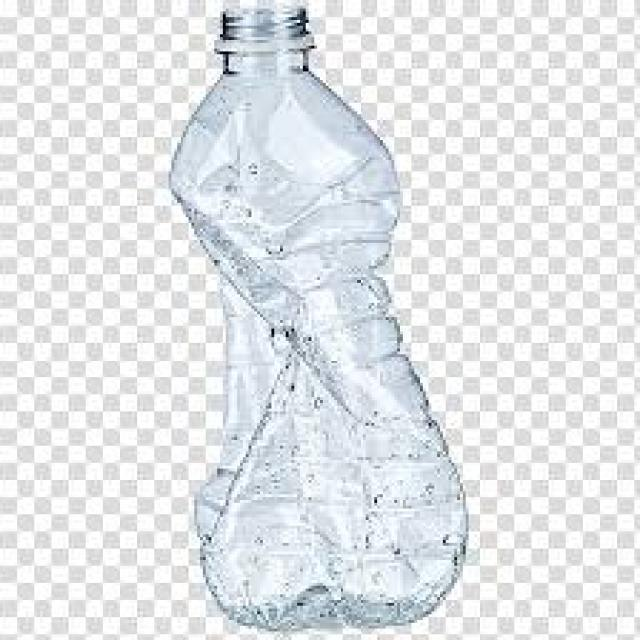Plastic: (169, 5, 468, 630)
